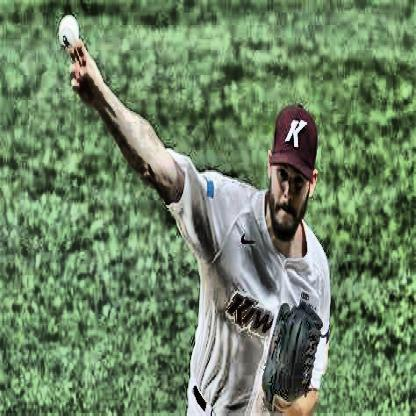baseball: (58, 15, 80, 56)
